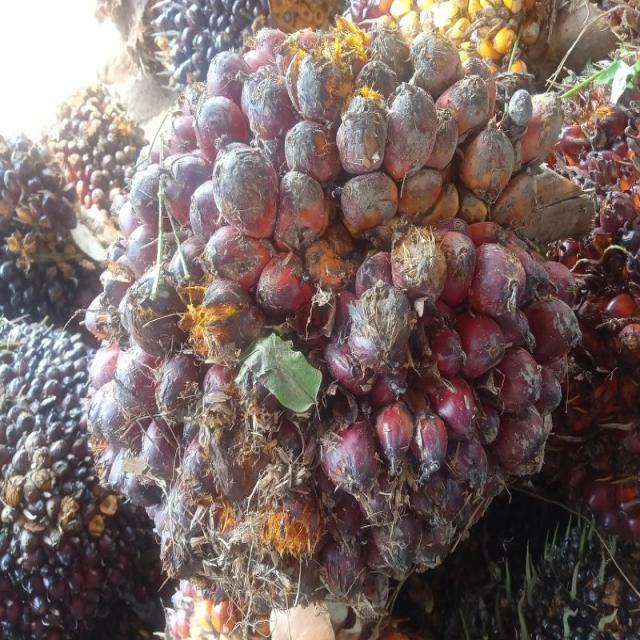fraksi 1: (91, 24, 594, 597)
